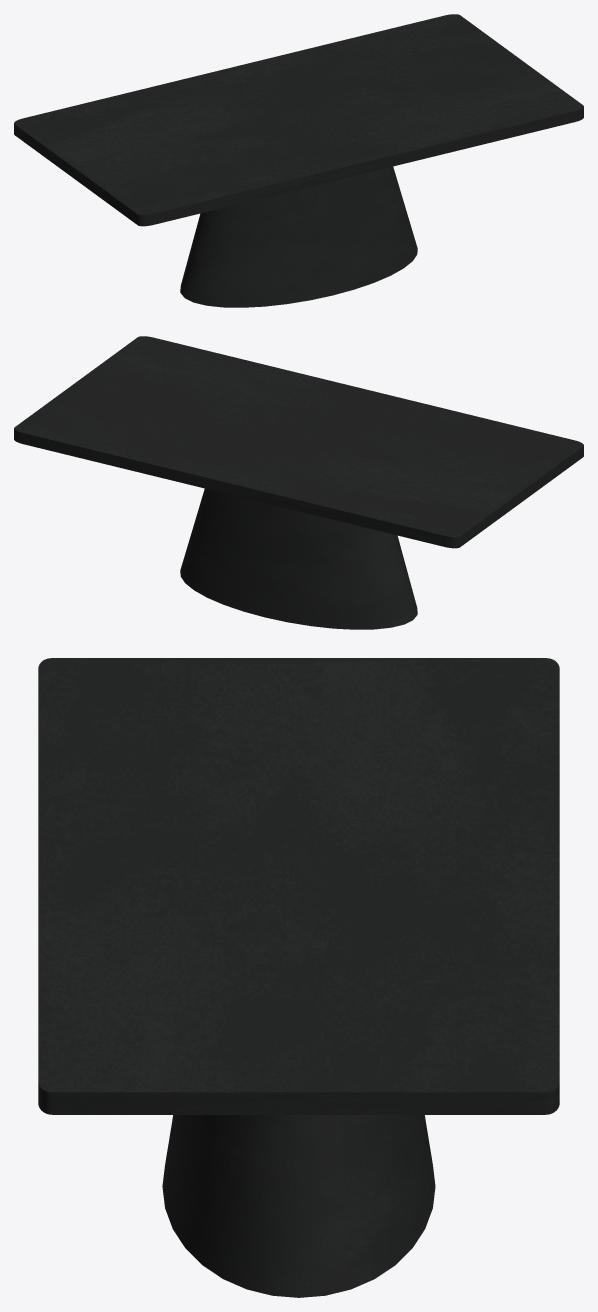
File: darknight_softrecta_standard_eqone.glb
3 views of the same model, one above another, from view 1: azimuth 30°, elevation 25°; view 2: azimuth 150°, elevation 25°; view 3: azimuth 270°, elevation 25° (orthographic). The views are drawn at different scales.
Visible parts, largest first — view 1: darknight_softrectastandard_eqone; view 2: darknight_softrectastandard_eqone; view 3: darknight_softrectastandard_eqone.
Boxes of the visible parts, left/top/right/bottom form: darknight_softrectastandard_eqone: left=14, top=14, right=583, bottom=307; darknight_softrectastandard_eqone: left=14, top=336, right=583, bottom=629; darknight_softrectastandard_eqone: left=38, top=658, right=559, bottom=1297.
Bounding box in the file's own units: 7.5 × 2.51 × 3.8.
Materials: 1 (1 with a texture image).
